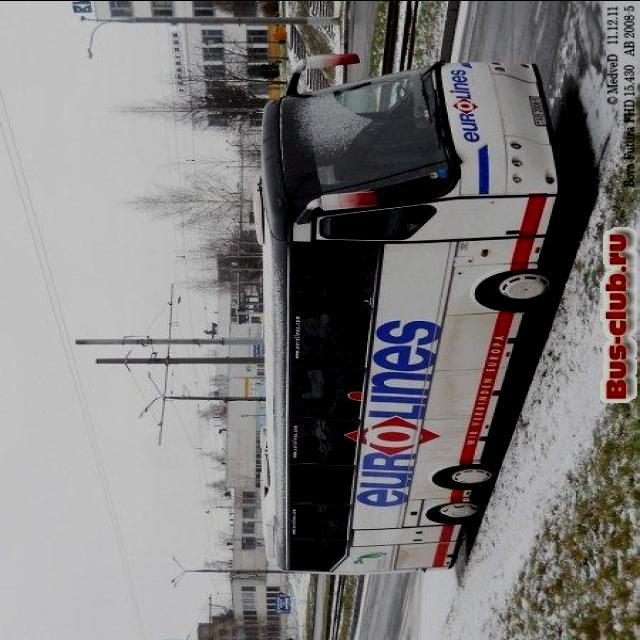bus: (252, 45, 579, 585)
